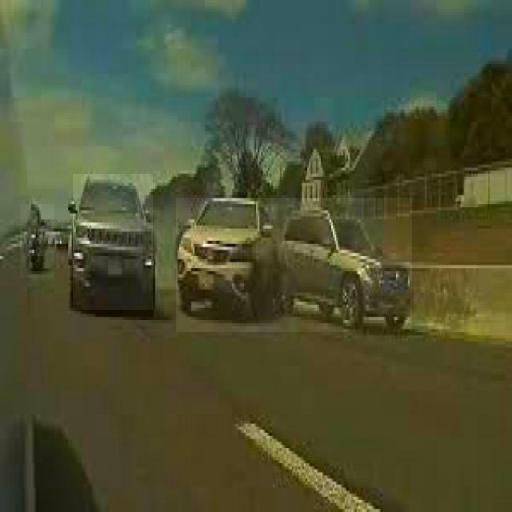小汽车: (74, 174, 154, 310)
小汽车撞小汽车: (176, 198, 412, 332)
自行车: (20, 204, 54, 278)
